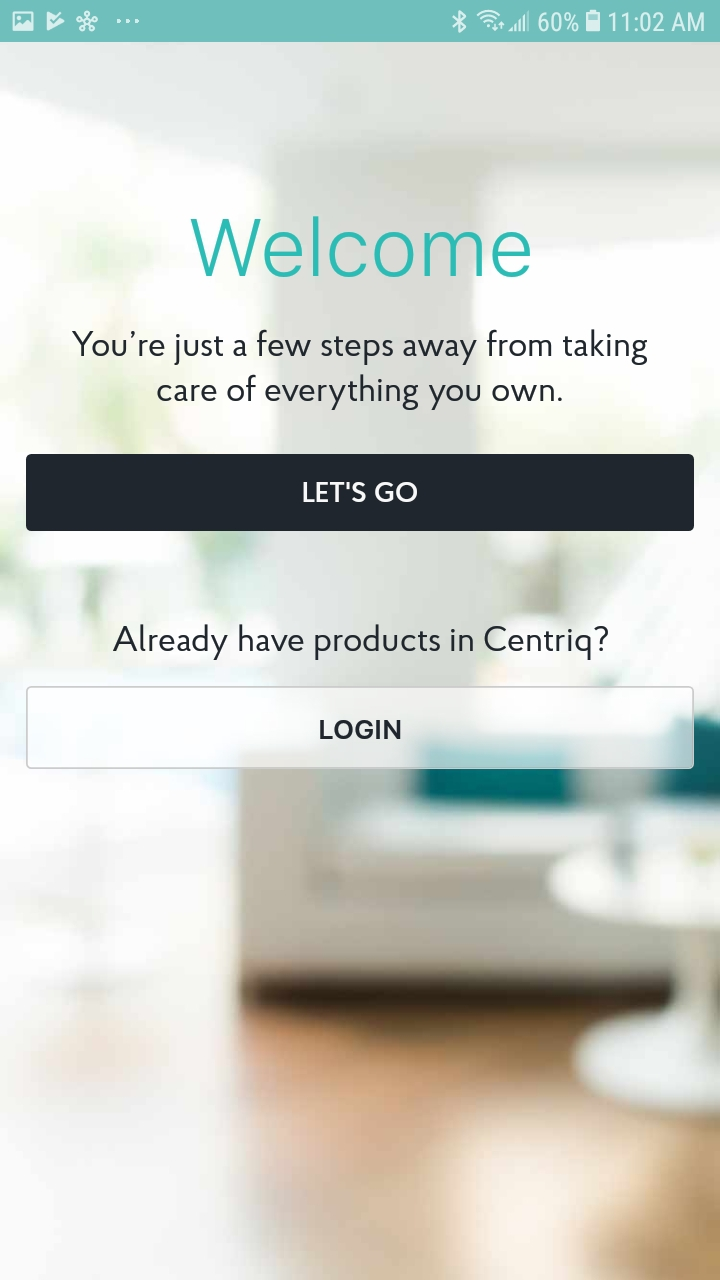BackgroundImage: (1, 44, 720, 1280)
Text: (72, 329, 648, 411), (191, 217, 531, 279), (114, 624, 609, 661)
TextButton: (27, 686, 695, 770), (27, 454, 695, 532)
UpperTaskBar: (1, 1, 720, 43)
